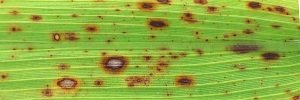RiceBrownSpot: (27, 4, 293, 100)
